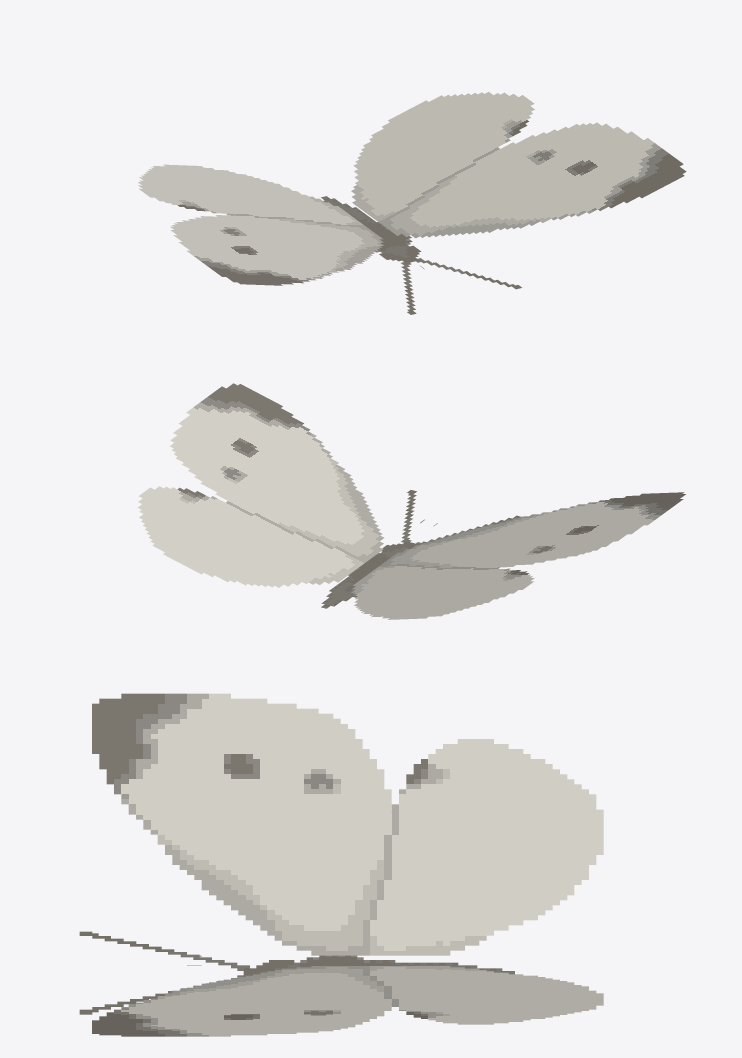
The model's file is 0402_White_Butterfly.glb.
The picture shows the model from 3 angles, top to bottom: view 1: azimuth 30°, elevation 25°; view 2: azimuth 150°, elevation 25°; view 3: azimuth 270°, elevation 25°; orthographic projection. The views are drawn at different scales.
Visible parts, largest first — view 1: part_0; view 2: part_0; view 3: part_0.
Part boxes in pixels (left/top/right/bottom): part_0: left=138, top=92, right=686, bottom=314; part_0: left=137, top=383, right=685, bottom=619; part_0: left=79, top=693, right=603, bottom=1036.
Bounding box in the file's own units: 0.0447 × 0.00715 × 0.0378.
Materials: 1 (1 with a texture image).
